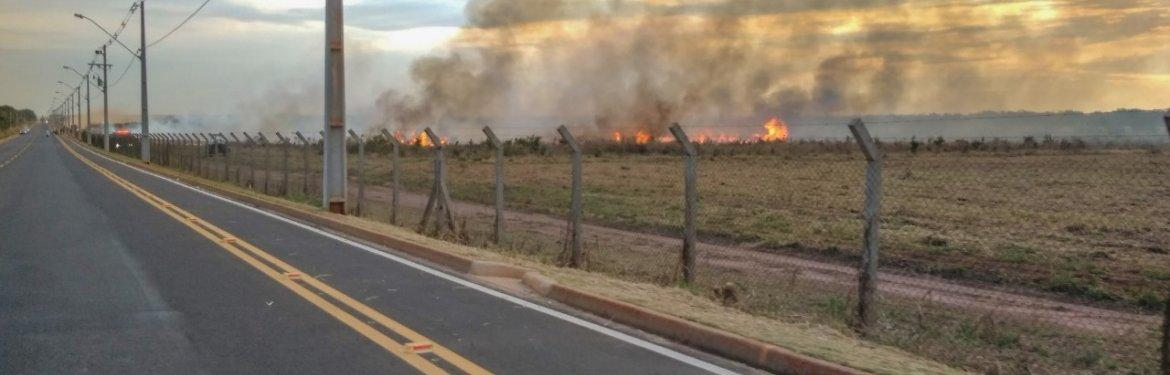smoke: (823, 54, 914, 107), (419, 61, 497, 114)
